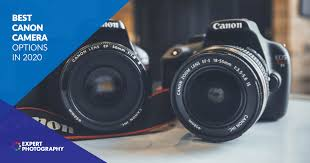camera: (161, 19, 291, 139), (61, 19, 151, 133)
